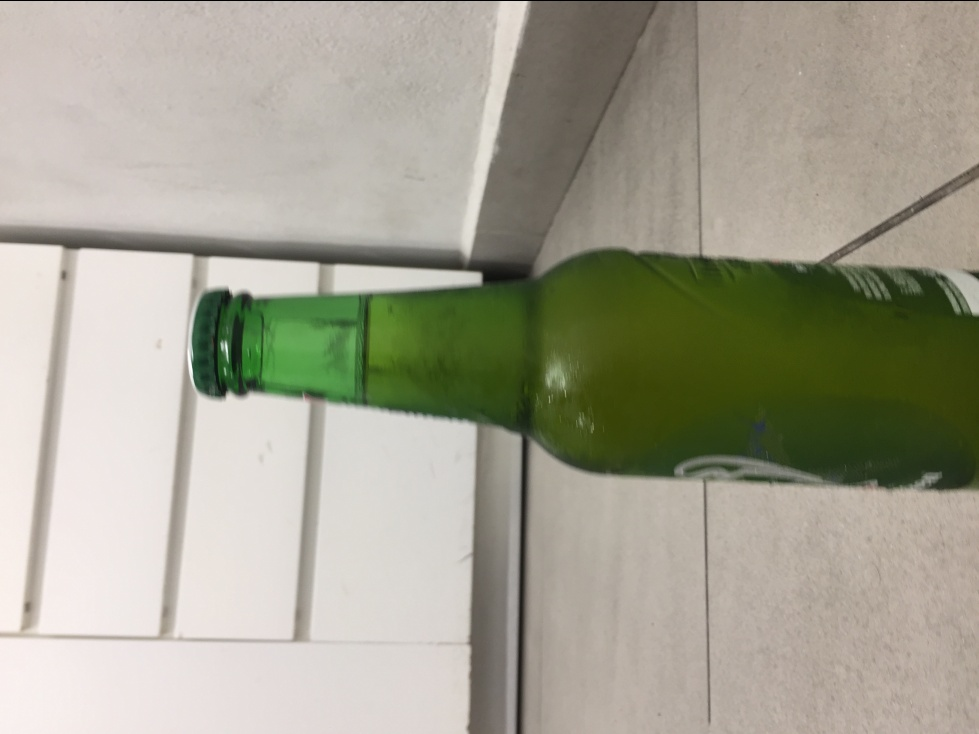heineken: (180, 245, 979, 493)
